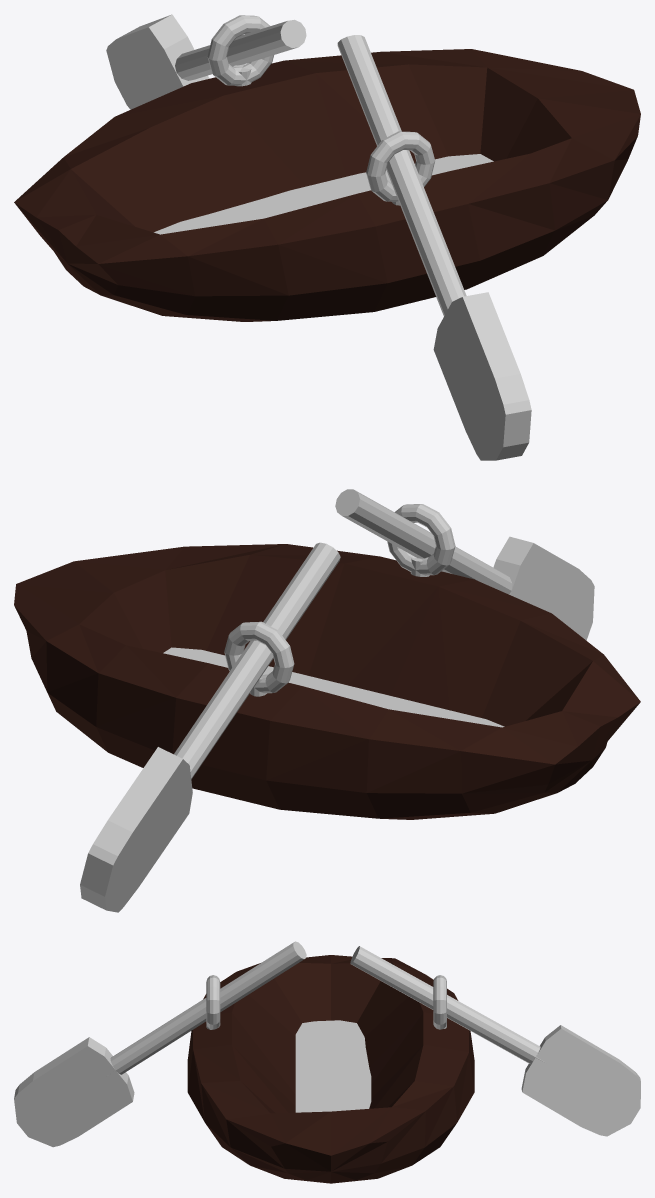
3 renders of one model, top to bottom at view 1: azimuth 30°, elevation 25°; view 2: azimuth 150°, elevation 25°; view 3: azimuth 270°, elevation 25°, orthographic. The views are drawn at different scales.
Visible parts, largest first — view 1: group294172184, group1816098959, group1204176509, group173497400, group270303059, group92652493, group291373543, group2014285715; view 2: group294172184, group173497400, group92652493, group1816098959, group1204176509, group270303059, group2014285715, group291373543; view 3: group294172184, group173497400, group1816098959, group270303059, group1204176509, group92652493, group291373543, group2014285715.
Part boxes in pixels (x1=…): group294172184: x1=14, y1=49, x2=640, y2=321; group1816098959: x1=433, y1=292, x2=531, y2=460; group1204176509: x1=337, y1=35, x2=466, y2=315; group173497400: x1=106, y1=14, x2=209, y2=109; group270303059: x1=154, y1=154, x2=493, y2=234; group92652493: x1=175, y1=19, x2=306, y2=80; group291373543: x1=366, y1=131, x2=435, y2=201; group2014285715: x1=207, y1=15, x2=273, y2=85; group294172184: x1=14, y1=544, x2=640, y2=819; group173497400: x1=80, y1=747, x2=192, y2=912; group92652493: x1=174, y1=542, x2=340, y2=779; group1816098959: x1=493, y1=536, x2=594, y2=640; group1204176509: x1=335, y1=489, x2=512, y2=594; group270303059: x1=163, y1=647, x2=504, y2=727; group2014285715: x1=224, y1=621, x2=294, y2=693; group291373543: x1=387, y1=504, x2=455, y2=575; group294172184: x1=187, y1=955, x2=474, y2=1183; group173497400: x1=521, y1=1025, x2=640, y2=1136; group1816098959: x1=14, y1=1037, x2=134, y2=1147; group270303059: x1=295, y1=1020, x2=371, y2=1112; group1204176509: x1=109, y1=941, x2=306, y2=1074; group92652493: x1=350, y1=946, x2=546, y2=1063; group291373543: x1=206, y1=975, x2=220, y2=1029; group2014285715: x1=433, y1=975, x2=446, y2=1029.
Size of the model in its own units: 0.6914 by 0.3374 by 0.912.
